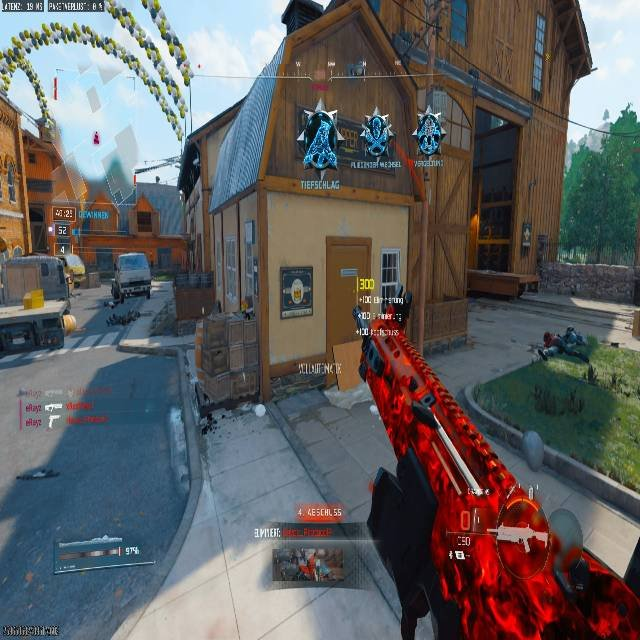head: (542, 332, 553, 345), (566, 326, 575, 336)
player: (298, 105, 342, 171), (538, 326, 589, 363)
